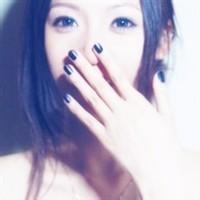face: (42, 1, 148, 113)
